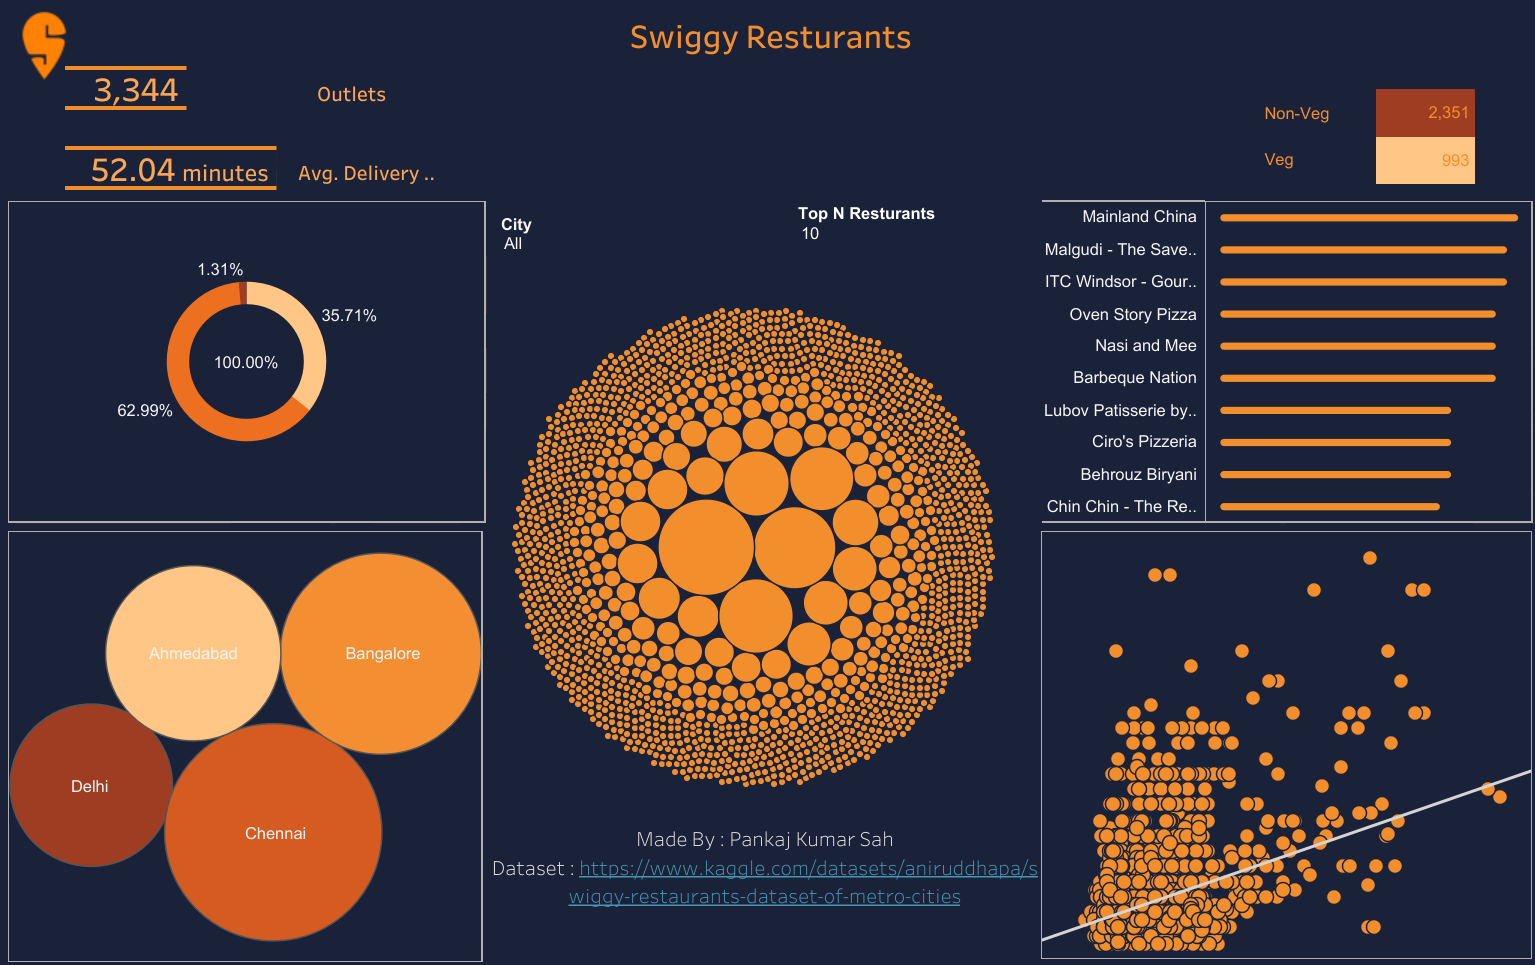

The dashboard page shown, as its layout file describes it:
{"tool":"tableau","page":{"name":"Dashboard","canvas":[1000,1000],"units":"permille","ordinal":0},"visuals":[{"type":"text","box":[4.7,9.6,994.4,54.5]},{"type":"worksheet","title":"No. of Resturants","mark":"Automatic","box":[37.1,60.6,127.9,69.9]},{"type":"text","box":[165,60.6,127.9,69.9]},{"type":"worksheet","title":"Sheet 10","mark":"Square","rows":["veg"],"box":[817.6,91.4,142.2,97.8]},{"type":"worksheet","title":"Avg. Delivery Time","mark":"Automatic","box":[37.1,142.9,147.5,69.9]},{"type":"text","box":[184.6,142.9,108.4,69.9]},{"type":"worksheet","title":"Delivery Status %","mark":"Pie","rows":["Calculation_1476899269557432324","Calculation_1476899269557432324"],"box":[4.7,208.3,311.5,333.3]},{"type":"worksheet","title":"Most Expensive Resturant","mark":"Line","rows":["name"],"box":[679.1,208.3,319,333.3]},{"type":"parameter","param":"[Parameters].[Parameter 1]","box":[519.2,209.9,149.7,101]},{"type":"filter","title":"Sheet 8","param":"[federated.088taav1wc4fo41eyzbg20iztdv3].[none:city:nk]","box":[326.5,221.2,149.7,64.1]},{"type":"worksheet","title":"Sheet 6","mark":"Circle","box":[283.4,315.7,414.4,500]},{"type":"worksheet","title":"Sheet 3","mark":"Circle","box":[4.7,549.7,309.6,447.1]},{"type":"worksheet","title":"Sheet 8","mark":"Circle","rows":["costForTwo"],"cols":["deliveryTime"],"box":[678.2,549.7,319.9,443.9]},{"type":"text","box":[315.2,830.1,365.8,133]}]}

Visuals, with their boxes on the dashboard's canvas, which has no fixed pixel size, in thousandths of its width and height (x1, y1, x2, y2). These are canvas units, not pixel positions in the 1535x965 screenshot, which may show the page scaled, cropped or inside an application window:
text: {"x1": 5, "y1": 10, "x2": 999, "y2": 64}
"No. of Resturants" worksheet: {"x1": 37, "y1": 61, "x2": 165, "y2": 130}
text: {"x1": 165, "y1": 61, "x2": 293, "y2": 130}
"Sheet 10" worksheet (Square marks): {"x1": 818, "y1": 91, "x2": 960, "y2": 189}
"Avg. Delivery Time" worksheet: {"x1": 37, "y1": 143, "x2": 185, "y2": 213}
text: {"x1": 185, "y1": 143, "x2": 293, "y2": 213}
"Delivery Status %" worksheet (Pie marks): {"x1": 5, "y1": 208, "x2": 316, "y2": 542}
"Most Expensive Resturant" worksheet (Line marks): {"x1": 679, "y1": 208, "x2": 998, "y2": 542}
parameter: {"x1": 519, "y1": 210, "x2": 669, "y2": 311}
"Sheet 8" filter: {"x1": 326, "y1": 221, "x2": 476, "y2": 285}
"Sheet 6" worksheet (Circle marks): {"x1": 283, "y1": 316, "x2": 698, "y2": 816}
"Sheet 3" worksheet (Circle marks): {"x1": 5, "y1": 550, "x2": 314, "y2": 997}
"Sheet 8" worksheet (Circle marks): {"x1": 678, "y1": 550, "x2": 998, "y2": 994}
text: {"x1": 315, "y1": 830, "x2": 681, "y2": 963}
